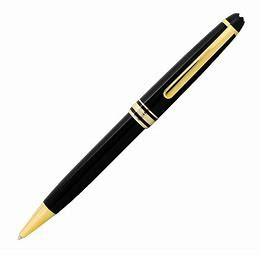pen: (20, 14, 244, 241)
